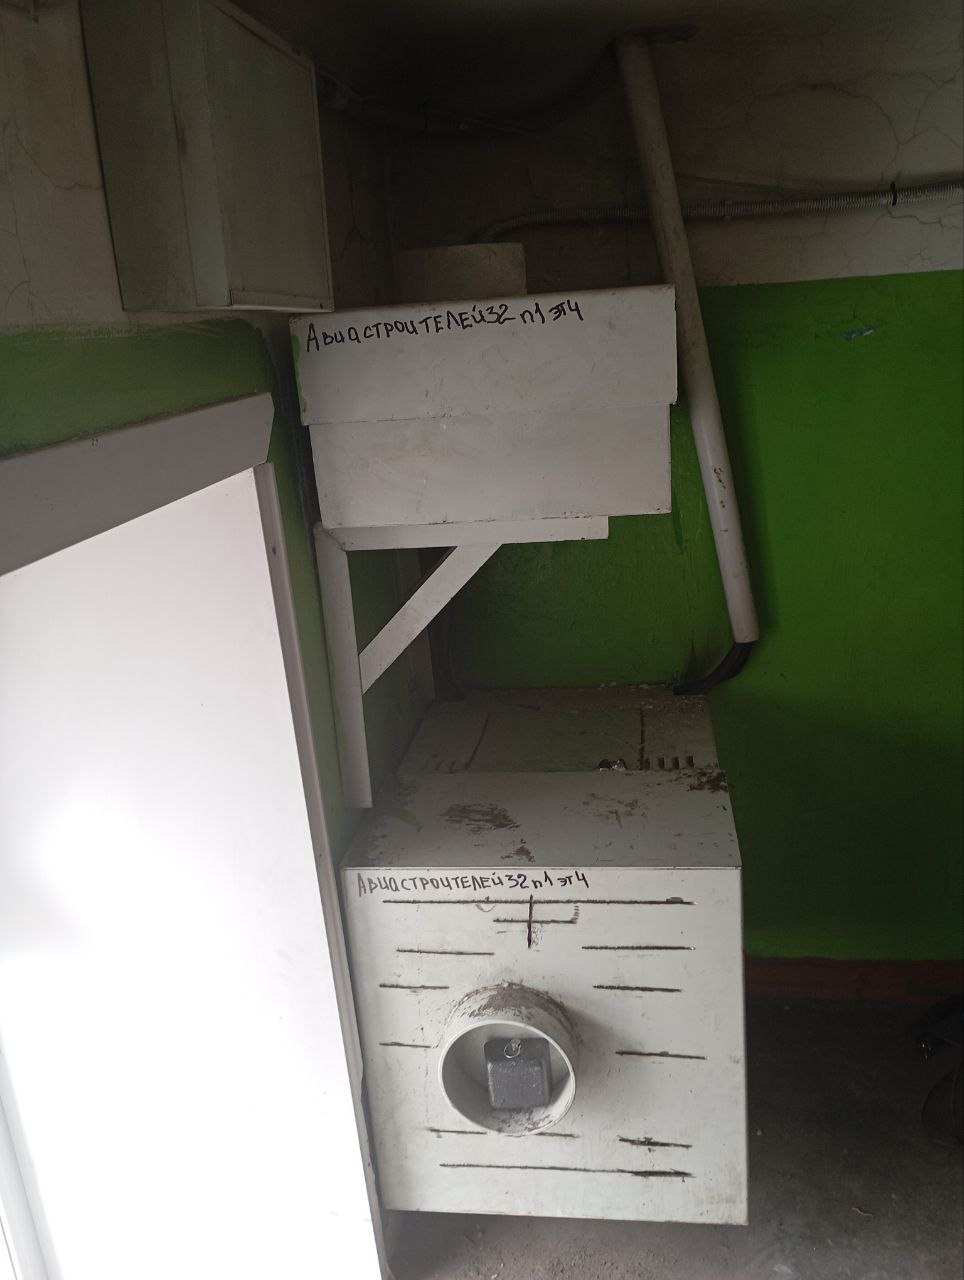shta-9: (325, 669, 759, 1237)
shta-ps: (285, 240, 680, 534)
